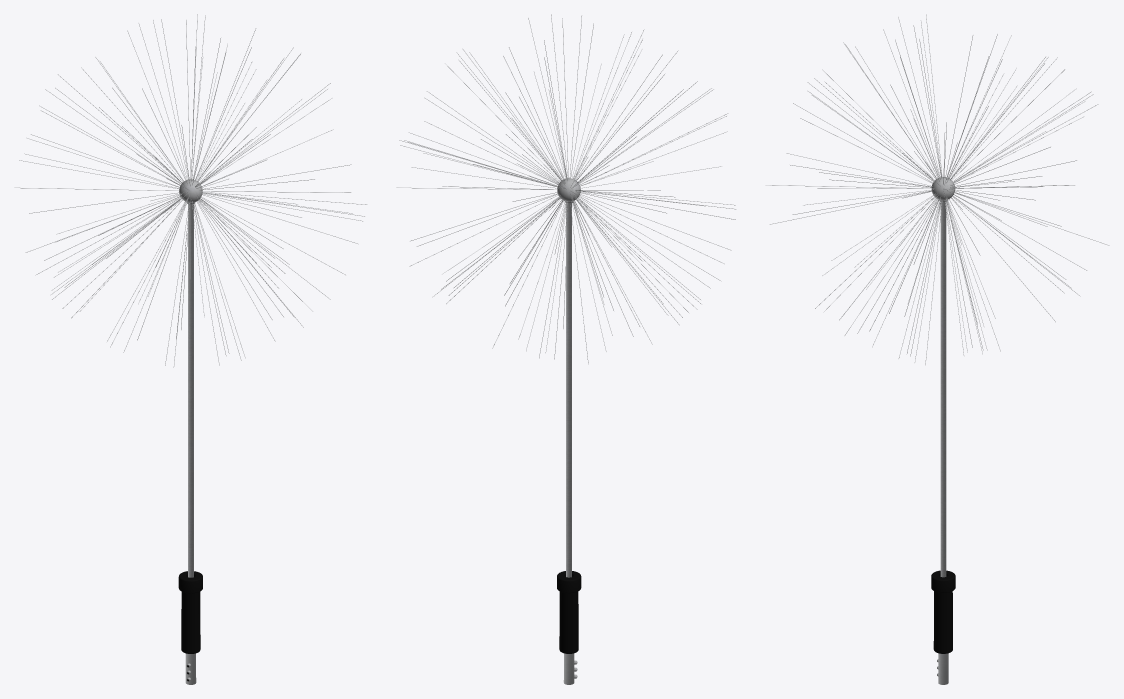
3 views of the same model, side by side, from view 1: azimuth 30°, elevation 25°; view 2: azimuth 150°, elevation 25°; view 3: azimuth 270°, elevation 25° (orthographic).
Visible parts, largest first — view 1: Empty.003, Sphere, Cylinder.011; view 2: Empty.003, Sphere, Cylinder.011; view 3: Empty.003, Sphere, Cylinder.011.
Part boxes in pixels (bbox=[...]): Empty.003: bbox=[14, 14, 367, 367]; Sphere: bbox=[179, 179, 202, 577]; Cylinder.011: bbox=[178, 571, 202, 684]; Empty.003: bbox=[396, 14, 736, 364]; Sphere: bbox=[557, 178, 580, 577]; Cylinder.011: bbox=[557, 571, 581, 684]; Empty.003: bbox=[765, 14, 1109, 365]; Sphere: bbox=[931, 177, 955, 577]; Cylinder.011: bbox=[931, 570, 955, 684].
Size of the model in its own units: 0.6046 by 1.24 by 0.5915.
3 materials, 1 textured.
